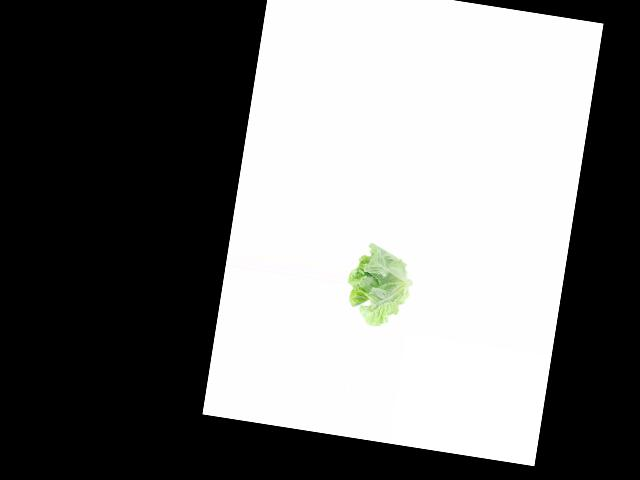lettuce: (342, 239, 414, 329)
